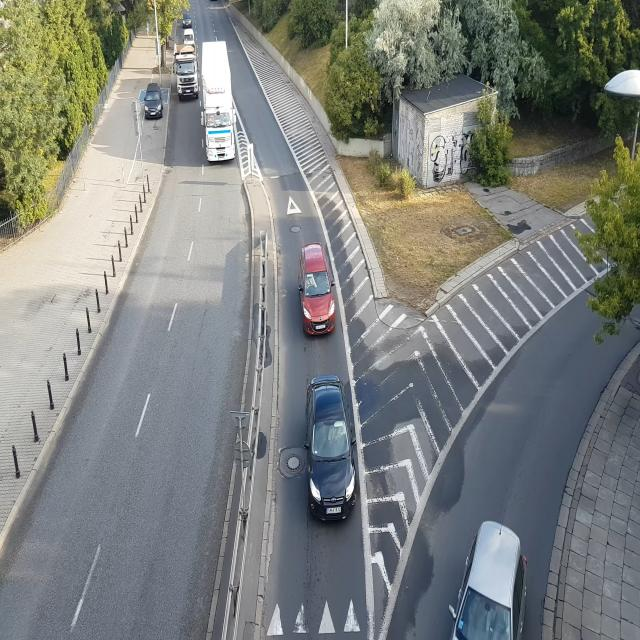car: (450, 507, 532, 640), (301, 372, 358, 520), (293, 237, 338, 337), (142, 87, 165, 120), (182, 26, 198, 50), (181, 14, 193, 28)
truck: (201, 49, 239, 164), (177, 52, 198, 98)
